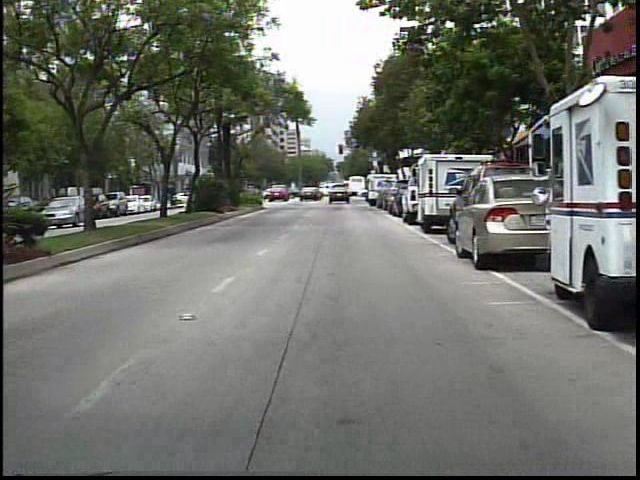person: (331, 183, 344, 203)
